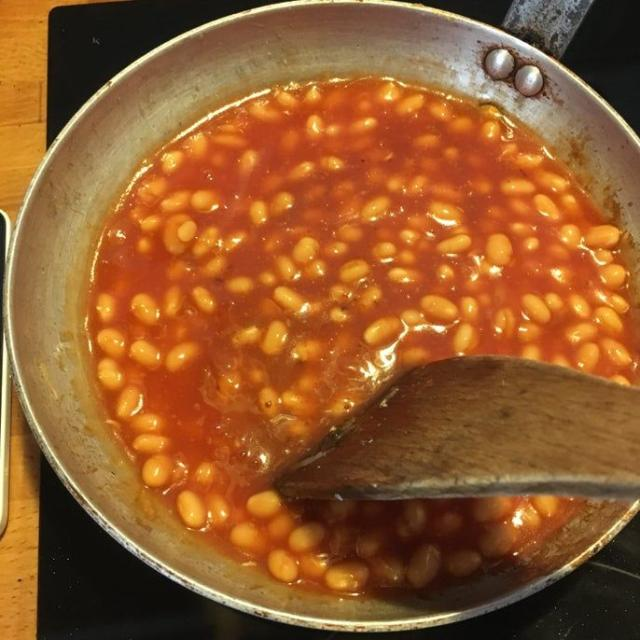beans: (406, 545, 441, 588), (325, 561, 368, 593), (478, 523, 516, 558), (363, 317, 403, 346), (177, 490, 207, 528), (163, 214, 191, 254), (369, 555, 405, 586), (289, 522, 325, 553), (397, 501, 427, 538), (420, 295, 459, 323), (142, 454, 173, 487), (267, 550, 298, 583), (165, 342, 199, 372), (230, 522, 264, 552), (472, 497, 512, 522), (445, 550, 481, 577), (247, 490, 281, 518), (130, 340, 161, 370), (131, 293, 160, 325), (116, 385, 143, 419), (261, 320, 288, 354), (274, 287, 309, 313), (600, 338, 631, 367), (192, 226, 220, 257), (486, 234, 513, 266), (428, 201, 462, 226), (522, 294, 551, 323), (356, 529, 385, 558), (585, 225, 620, 249), (97, 329, 125, 359), (98, 359, 125, 390), (132, 433, 170, 455), (138, 177, 167, 205), (267, 512, 295, 541), (432, 511, 463, 537), (594, 307, 623, 334), (453, 323, 478, 354), (361, 196, 390, 222), (299, 554, 328, 580), (339, 259, 370, 283), (208, 494, 230, 527), (436, 234, 472, 254), (566, 322, 598, 344), (293, 237, 319, 264), (282, 390, 310, 415), (536, 171, 569, 192), (576, 343, 599, 373), (291, 339, 322, 361), (250, 101, 281, 123), (599, 264, 626, 289), (533, 195, 560, 220), (161, 191, 191, 213), (192, 286, 216, 313), (130, 413, 164, 432), (163, 286, 183, 318), (494, 307, 515, 337), (184, 133, 208, 159), (396, 94, 424, 115), (194, 462, 217, 487), (275, 256, 298, 281), (569, 293, 591, 319), (96, 293, 115, 323), (532, 496, 559, 517), (601, 294, 629, 314), (233, 326, 261, 346), (161, 151, 185, 174), (270, 192, 294, 215), (519, 504, 542, 528), (400, 348, 429, 367), (211, 134, 247, 149), (559, 224, 581, 248), (238, 150, 259, 175), (501, 179, 536, 194), (359, 286, 382, 308), (517, 321, 540, 343), (388, 267, 419, 283), (289, 161, 315, 180), (460, 297, 479, 323), (225, 277, 254, 294), (428, 100, 451, 121), (350, 117, 378, 134), (378, 82, 401, 102), (400, 309, 426, 326), (337, 225, 363, 242), (330, 284, 353, 303), (306, 115, 324, 139), (275, 91, 299, 109), (177, 221, 196, 243), (250, 201, 268, 224), (514, 154, 543, 168), (448, 117, 473, 133), (560, 193, 579, 214), (543, 293, 564, 312), (140, 215, 162, 233), (414, 134, 440, 149), (325, 240, 349, 256), (481, 120, 501, 139), (408, 175, 428, 194), (320, 156, 344, 171), (436, 265, 455, 282), (305, 85, 322, 104), (522, 345, 542, 361), (400, 229, 419, 245), (329, 307, 349, 322), (593, 249, 613, 264), (522, 236, 540, 252), (258, 272, 277, 286), (398, 250, 417, 264), (610, 375, 630, 386)
